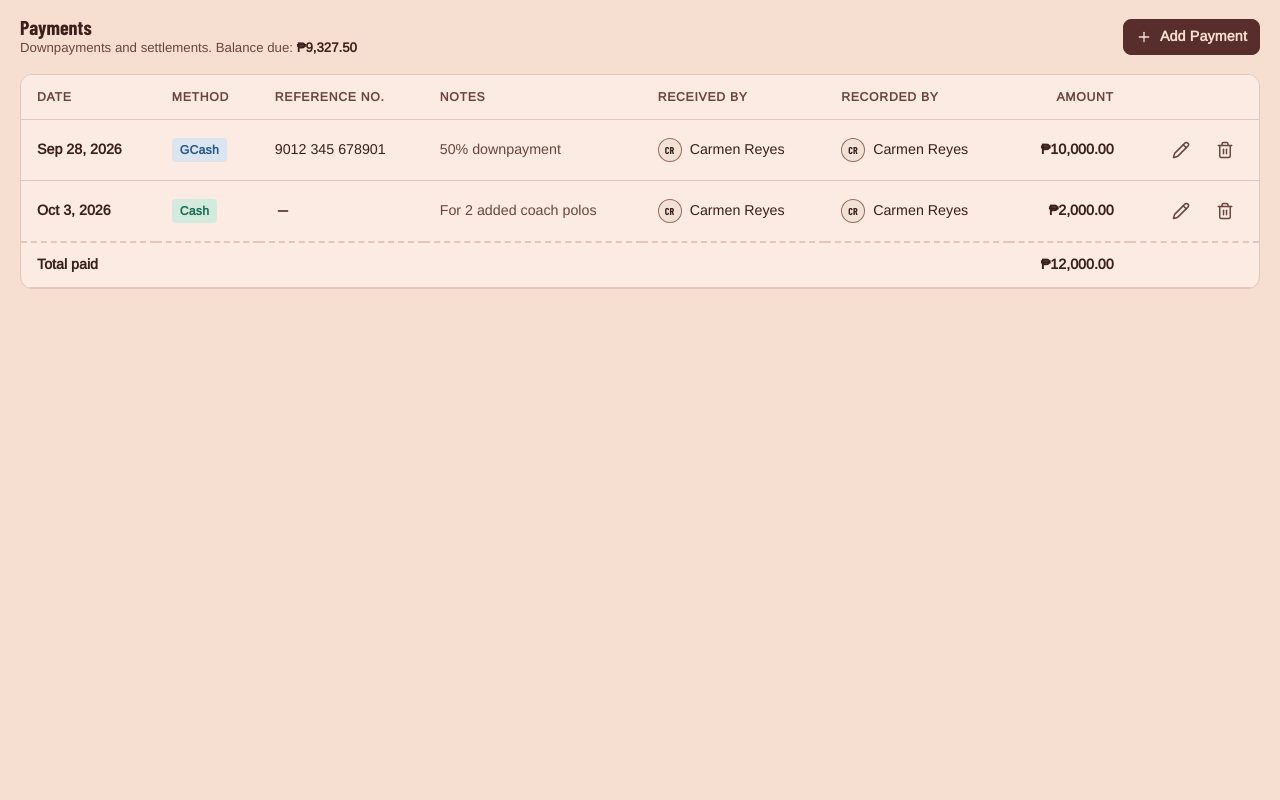
Test case: Delete Payment › says "This payment was removed." when the payment is already gone (404)
Click the button named "Delete payment of ₱2,000.00, Oct 3, 2026".
click(1225, 211)  # box [1207,193,1243,229]
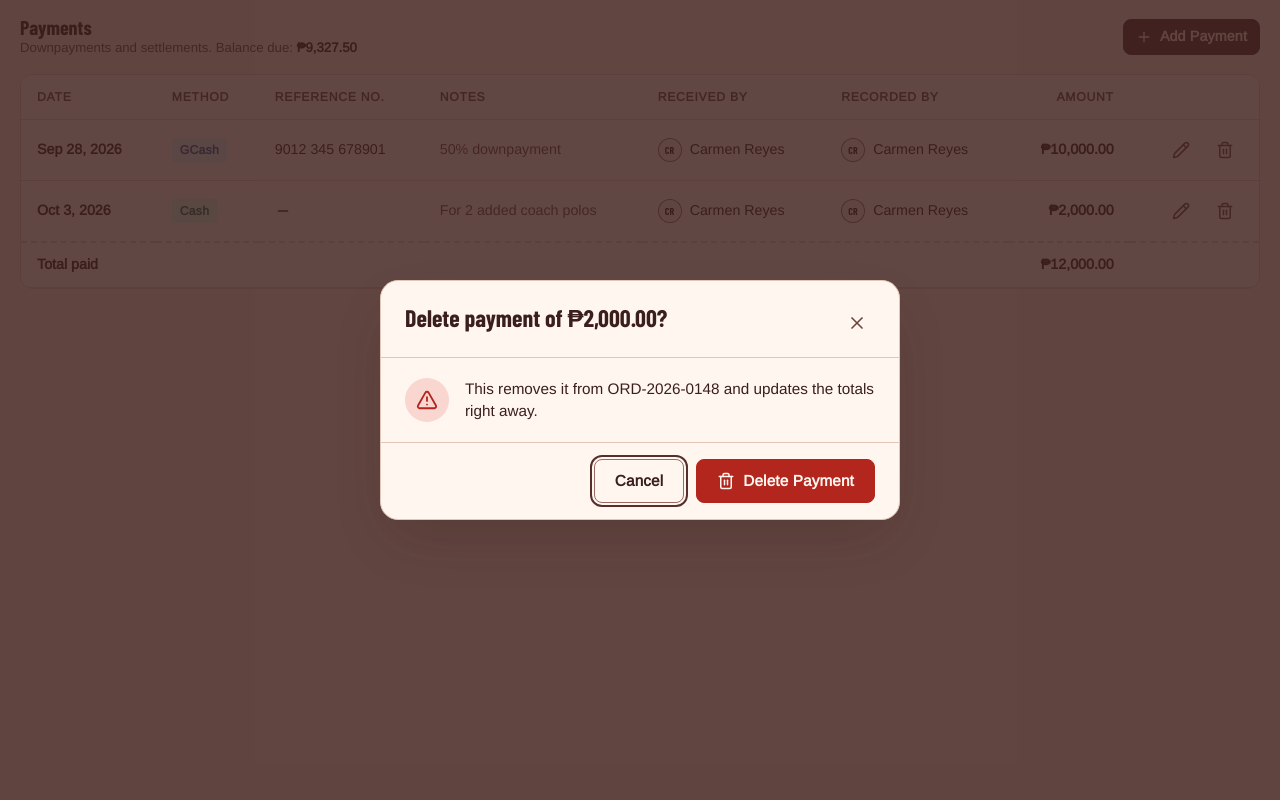
Click the button "Delete Payment".
click(786, 481)  # box [696,459,875,503]
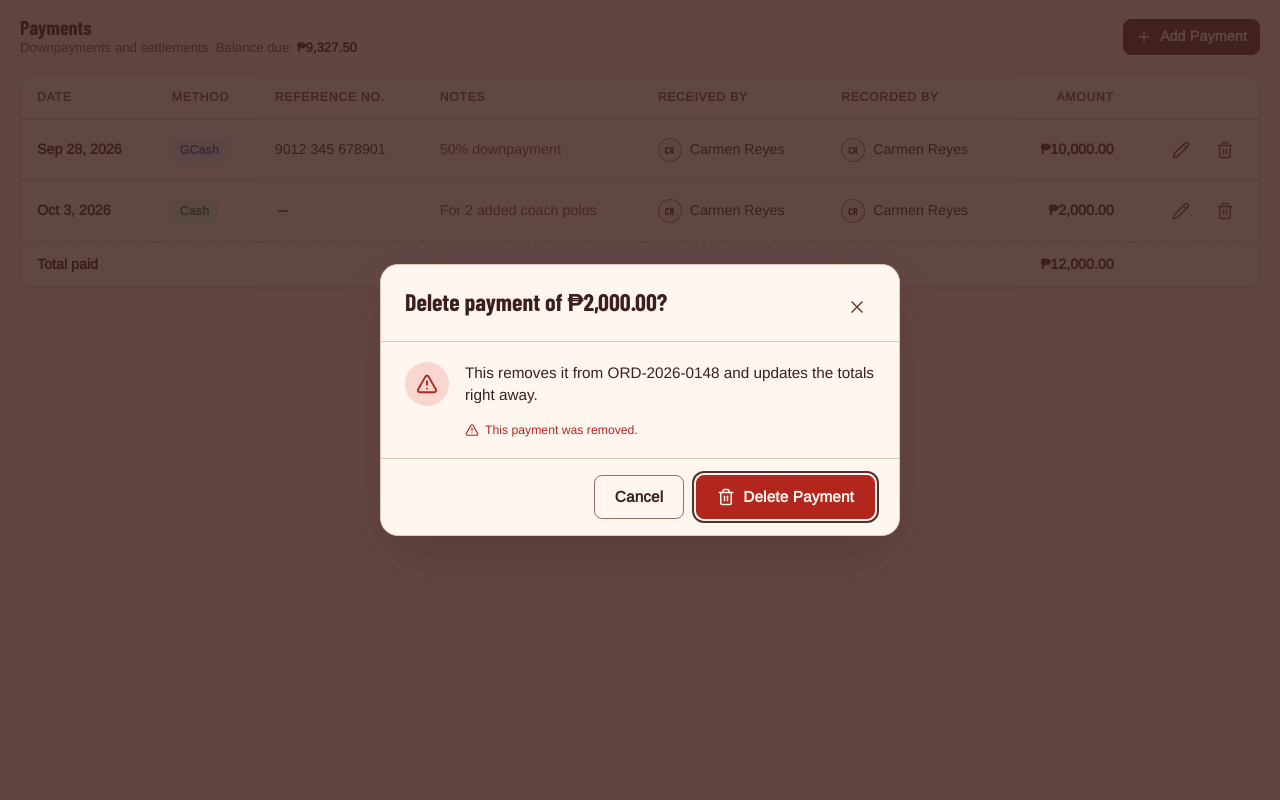
Check: the message reads "This payment was removed.", box [485,423,638,437]
